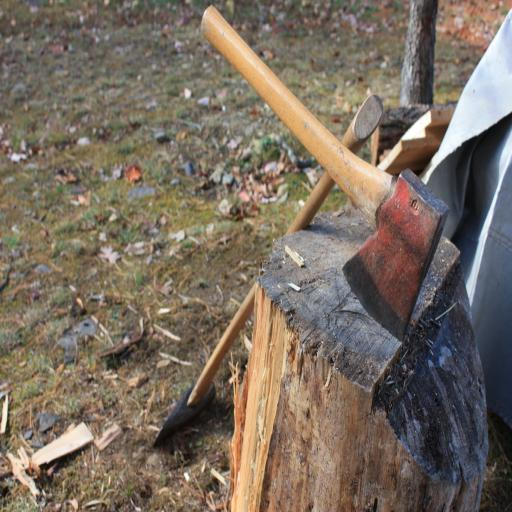Axe: (199, 1, 450, 344)
